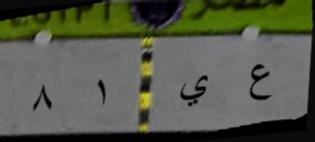1: (89, 76, 112, 110)
8: (31, 82, 54, 118)
ain: (247, 60, 274, 105)
yaa: (176, 70, 210, 113)
